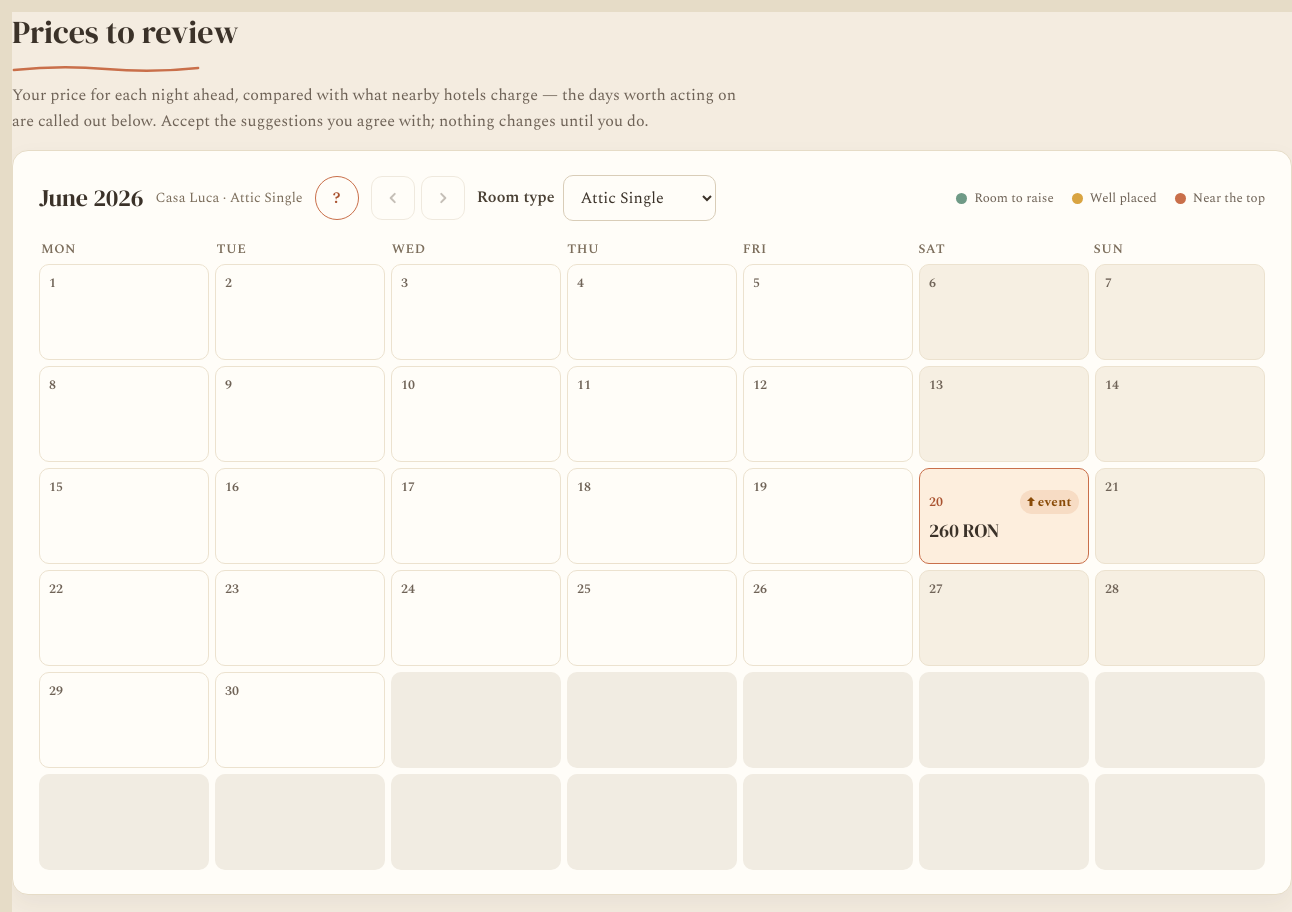
it: RecommendationsPage — price calendar › defaults the room type to the alphabetically first and switches on select
Expected: the text "Casa Luca · Attic Single" is shown, [156, 187, 303, 209]
Select "Double Deluxe" in the dropdown labelled "Room type" at (639, 198), box [562, 175, 716, 221]
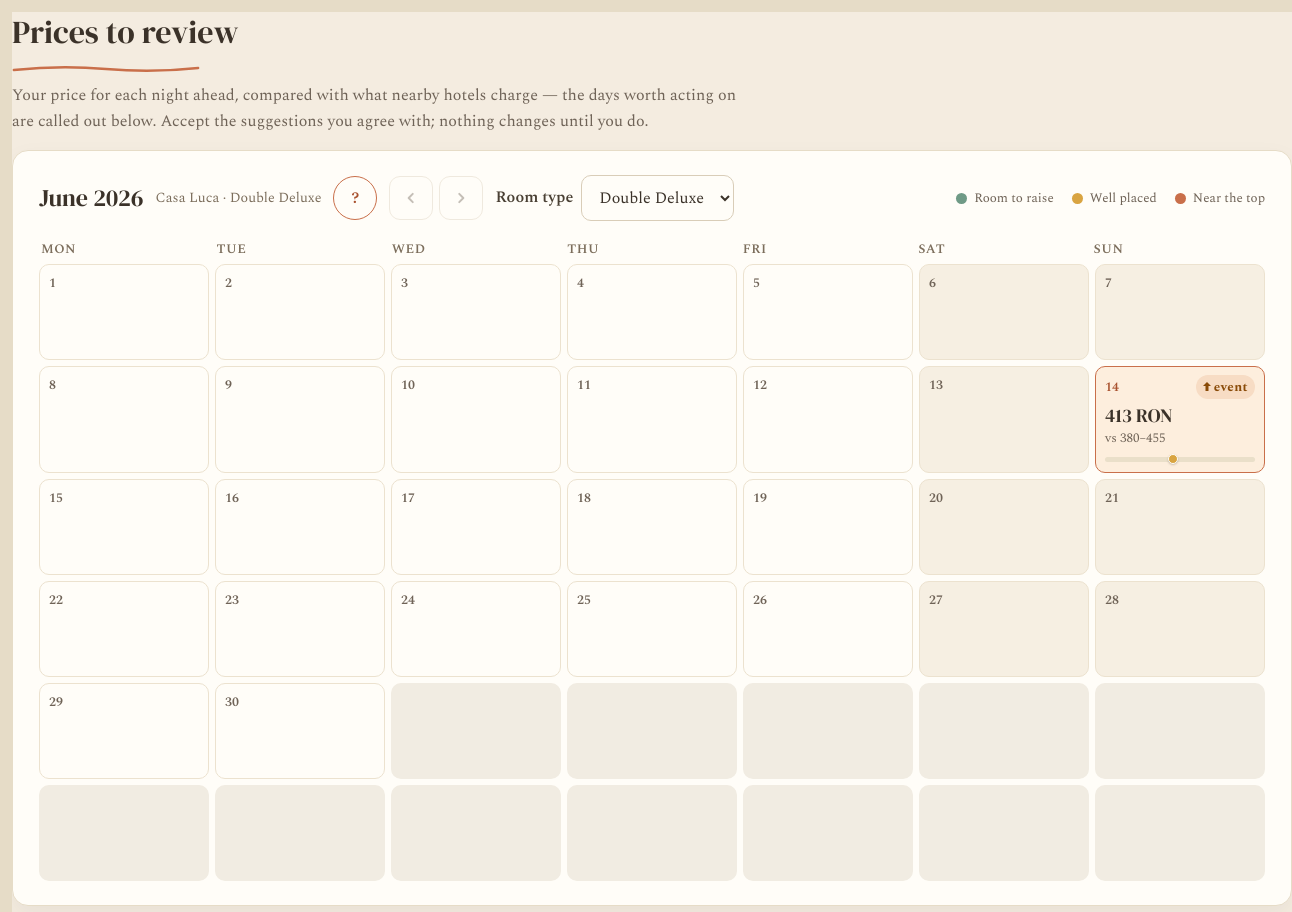
Result: the text "Casa Luca · Double Deluxe" is shown at [156, 187, 321, 209]
Result: the text "vs 380–455" is shown at [1105, 428, 1166, 448]
